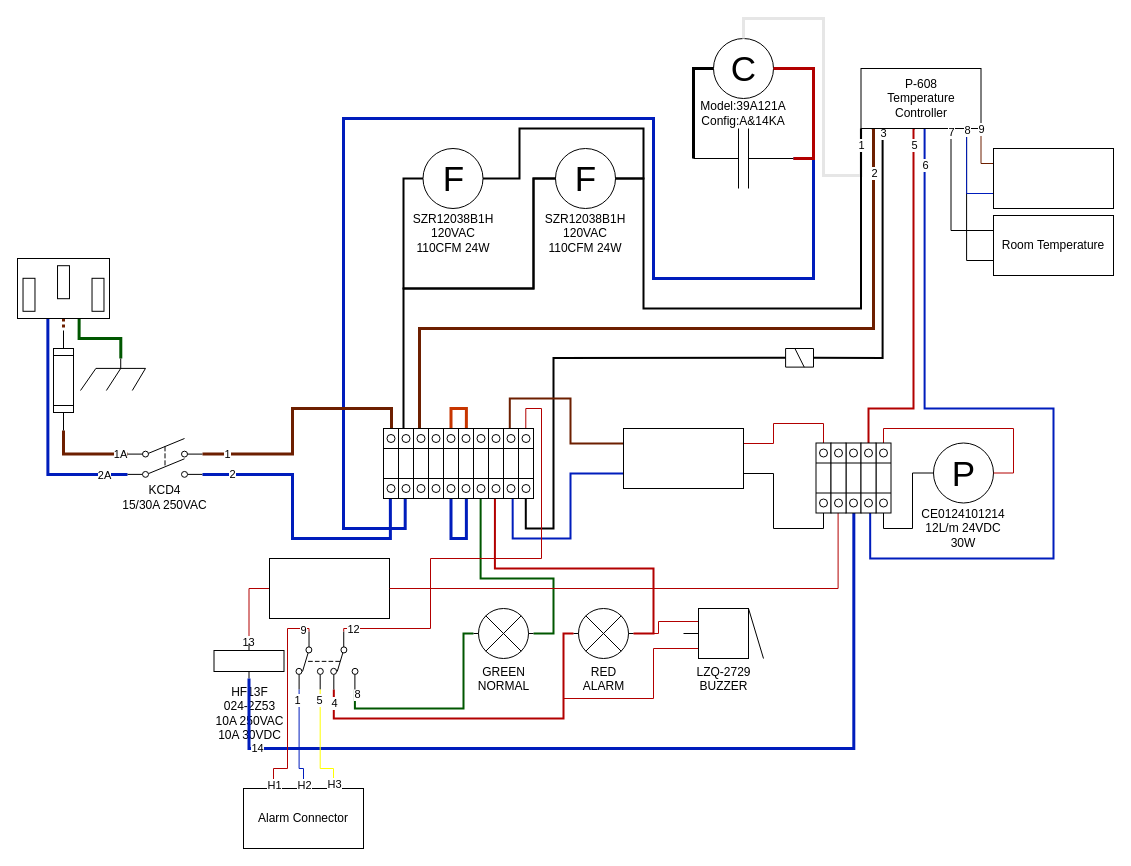
Some shapes in this 1131 by 866 pixel diagram are drawn without their labels. Here are the shapes that lost their labels. From the top down, the centre of each, then its label:
At pixel 743 158: "35μF±5% 450VAC B 40/85/21 50/60Hz S2 SH".
At pixel 1053 178: "Reservoir Temperature".
At pixel 799 357: "230604J Solenoid Valve".
At pixel 683 458: "24VDC 2A".
At pixel 329 588: "Flow Sensor".
